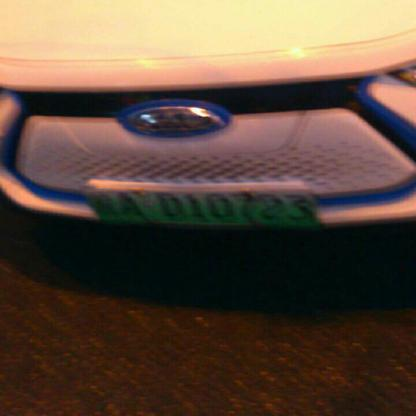lp: (83, 192, 316, 226)
